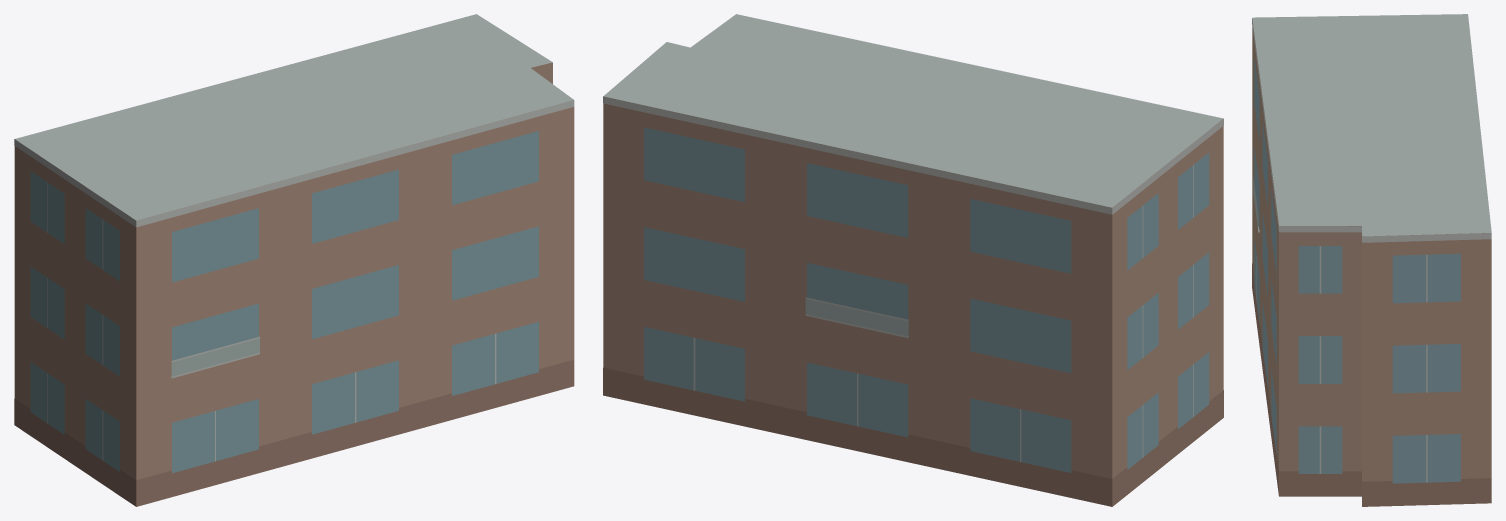
Rendered from survey-upis-33001498.glb.
3 views of the same model, side by side, from view 1: azimuth 30°, elevation 25°; view 2: azimuth 150°, elevation 25°; view 3: azimuth 270°, elevation 25° (orthographic). The views are drawn at different scales.
Parts seen in each view (by area): view 1: survey-upis-33001498.tmp; view 2: survey-upis-33001498.tmp; view 3: survey-upis-33001498.tmp.
Part boxes in pixels (x1,y1,x2,y2): survey-upis-33001498.tmp: (14, 14, 574, 506); survey-upis-33001498.tmp: (603, 14, 1223, 506); survey-upis-33001498.tmp: (1252, 14, 1491, 506).
Size of the model in its own units: 18.36 by 10.4 by 8.36.
